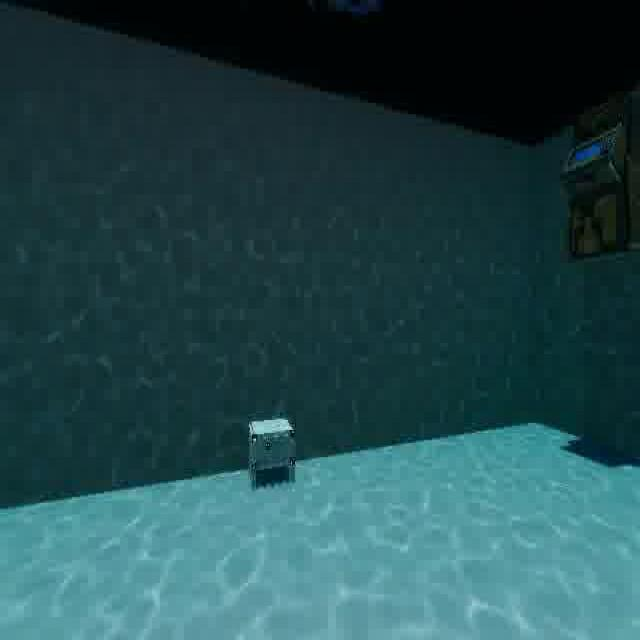Control Panel: (556, 83, 640, 275)
Docking Station: (246, 409, 299, 496)
